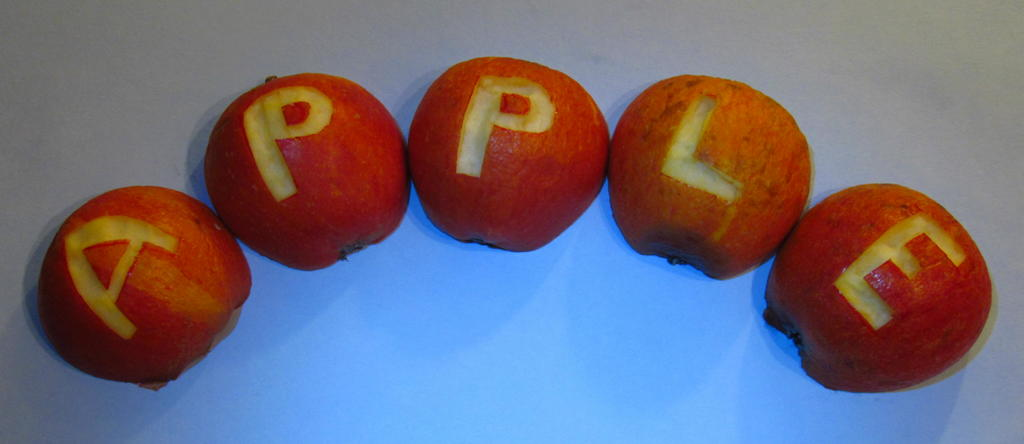Apple: (757, 181, 992, 396), (35, 188, 255, 387), (612, 73, 811, 279), (406, 55, 611, 254), (192, 69, 395, 258)
